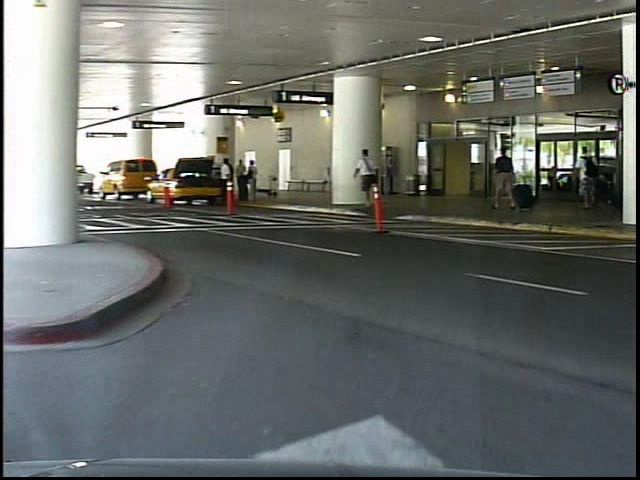person: (571, 139, 608, 222), (494, 143, 522, 211), (361, 146, 389, 212)
